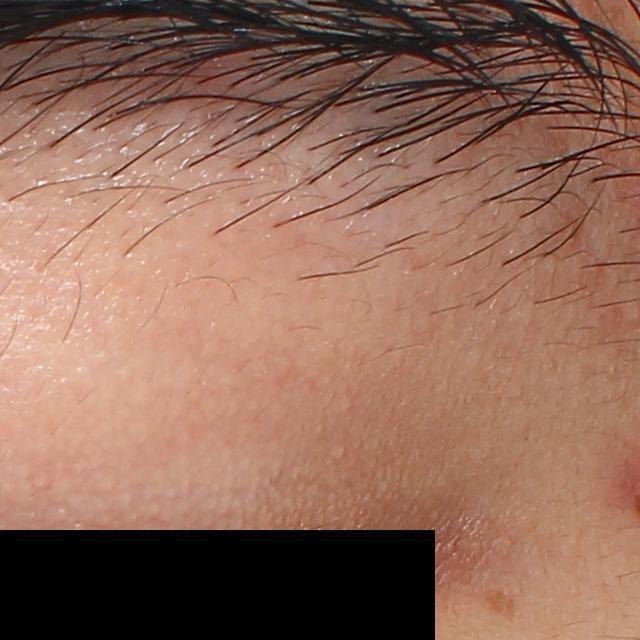melasma: (483, 586, 525, 625)
